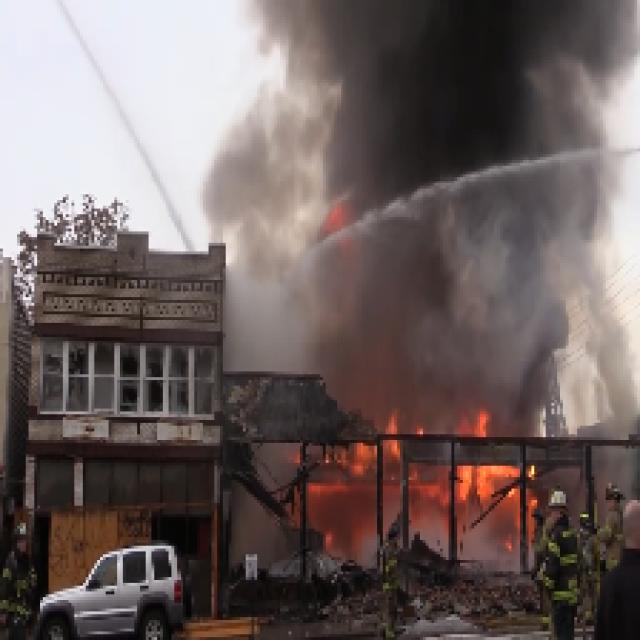fire: (303, 414, 536, 552)
smoke: (290, 9, 610, 161), (394, 179, 594, 361)
